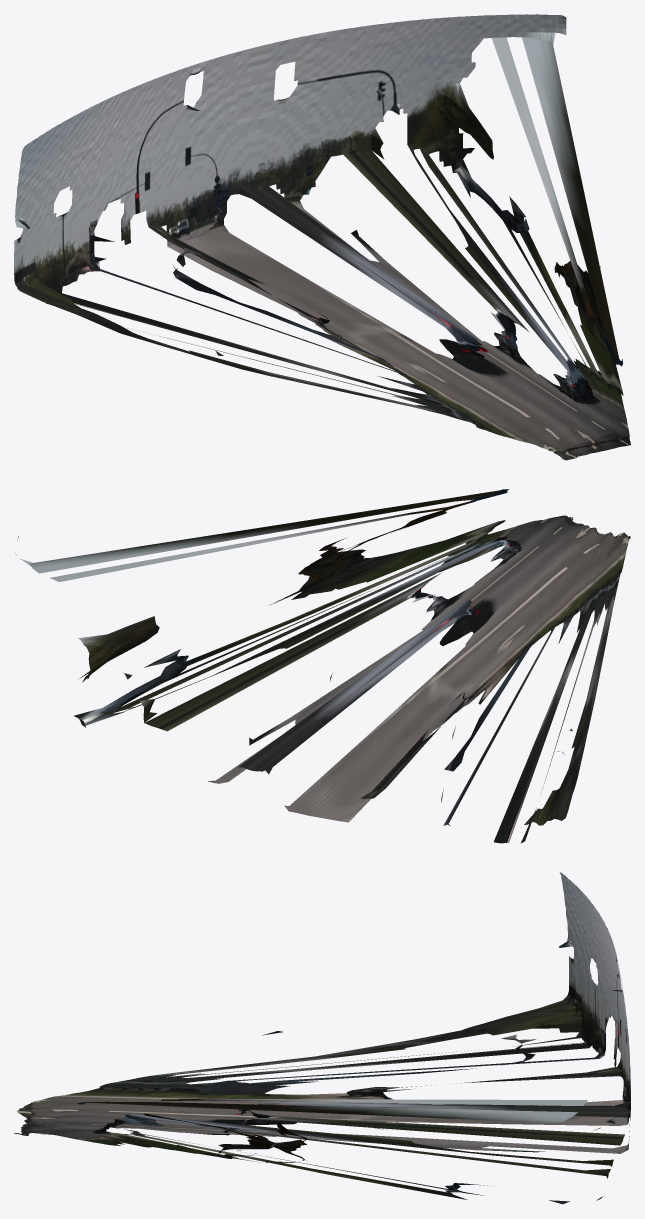
3 views of the same model, one above another, from view 1: azimuth 30°, elevation 25°; view 2: azimuth 150°, elevation 25°; view 3: azimuth 270°, elevation 25° (orthographic). The views are drawn at different scales.
Visible parts, largest first — view 1: defaultobject; view 2: defaultobject; view 3: defaultobject.
Boxes of the visible parts, bbox=[...] form: defaultobject: bbox=[14, 14, 630, 460]; defaultobject: bbox=[15, 489, 630, 843]; defaultobject: bbox=[14, 872, 630, 1204].
Size of the model in its own units: 40.89 by 13 by 44.78.
1 material, 1 textured.
